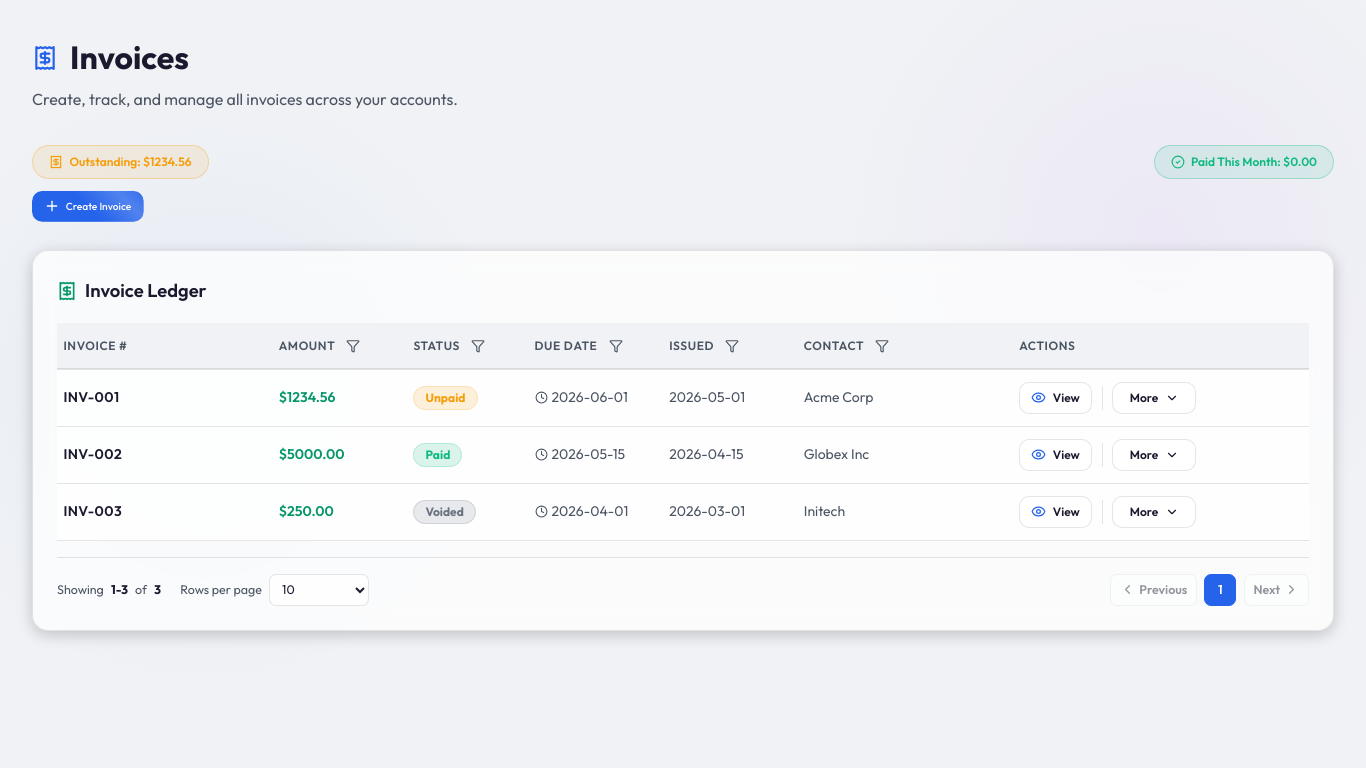
Scenario: <Invoices /> — page surface › marks only the required Generic CRM create-invoice fields with an asterisk
expect the heading "Invoices" is shown: met, box [32, 37, 189, 77]
Step 1. Click the button "Create Invoice" → (88, 206), box [32, 191, 144, 222]
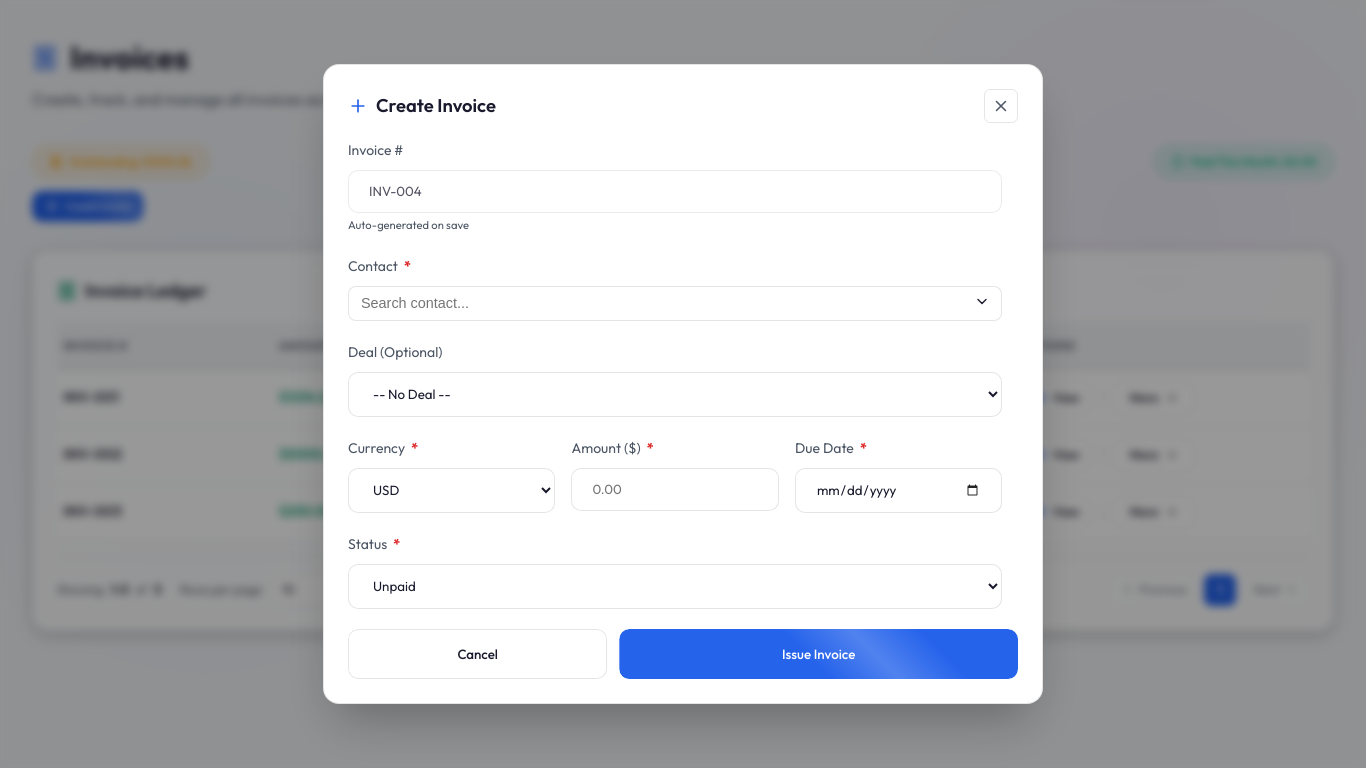
expect the heading "Create Invoice" is shown: met, box [348, 89, 1018, 123]
